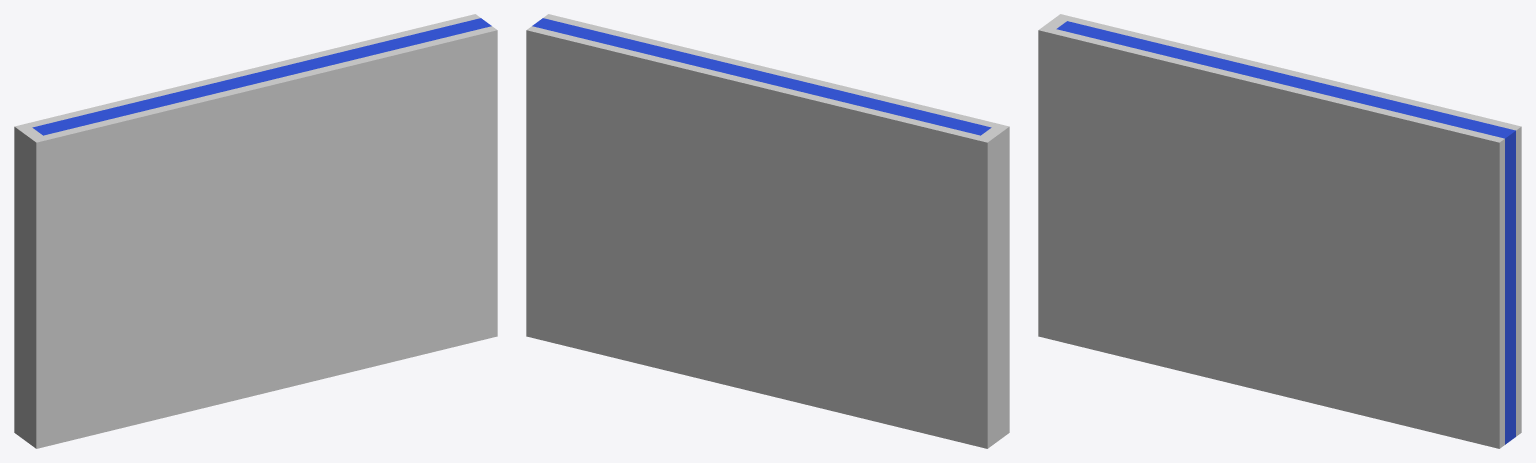
File: wall corner.fbx
3 views of the same model, side by side, from view 1: azimuth 30°, elevation 25°; view 2: azimuth 150°, elevation 25°; view 3: azimuth 330°, elevation 25° (orthographic).
Visible parts, largest first — view 1: Cube.038; view 2: Cube.038; view 3: Cube.038.
Boxes of the visible parts, x1=… form: Cube.038: x1=14, y1=14, x2=497, y2=448; Cube.038: x1=526, y1=14, x2=1009, y2=448; Cube.038: x1=1038, y1=14, x2=1521, y2=448.
Bounding box in the file's own units: 906 × 575 × 75.22.
